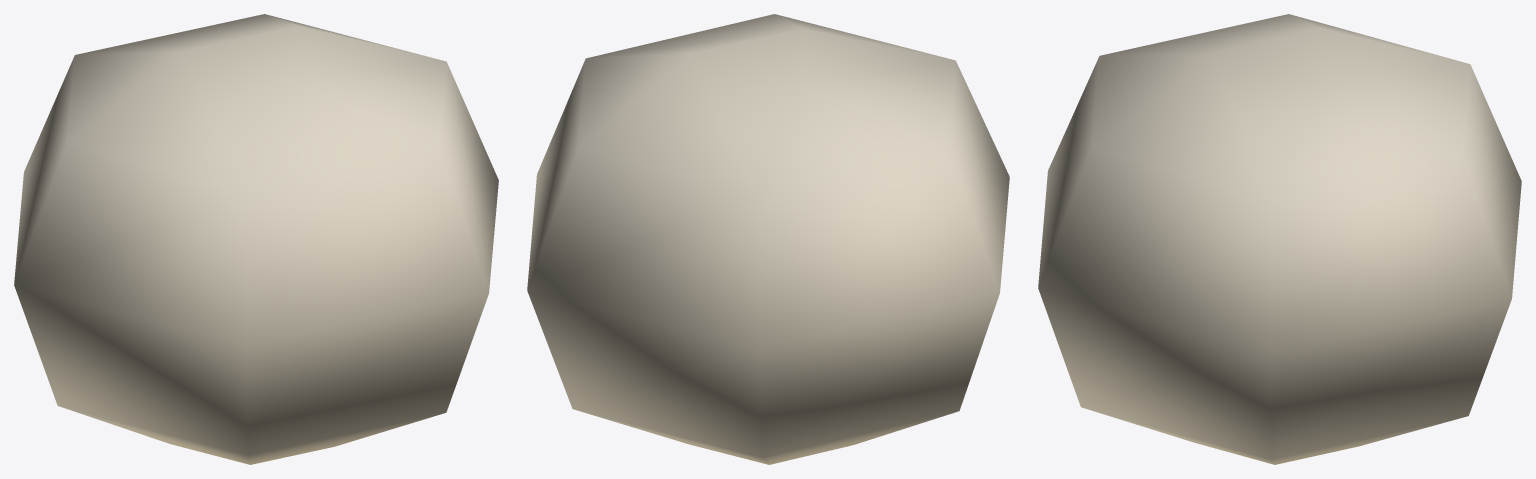
The model's file is LanternWhite.glb.
3 views of the same model, side by side, from view 1: azimuth 30°, elevation 25°; view 2: azimuth 150°, elevation 25°; view 3: azimuth 270°, elevation 25° (orthographic).
Parts seen in each view (by area): view 1: LanternWhite; view 2: LanternWhite; view 3: LanternWhite.
Part boxes in pixels (x1=…): LanternWhite: x1=14, y1=14, x2=498, y2=464; LanternWhite: x1=527, y1=14, x2=1009, y2=464; LanternWhite: x1=1038, y1=14, x2=1521, y2=464.
Bounding box in the file's own units: 0.2355 × 0.1765 × 0.2082.
